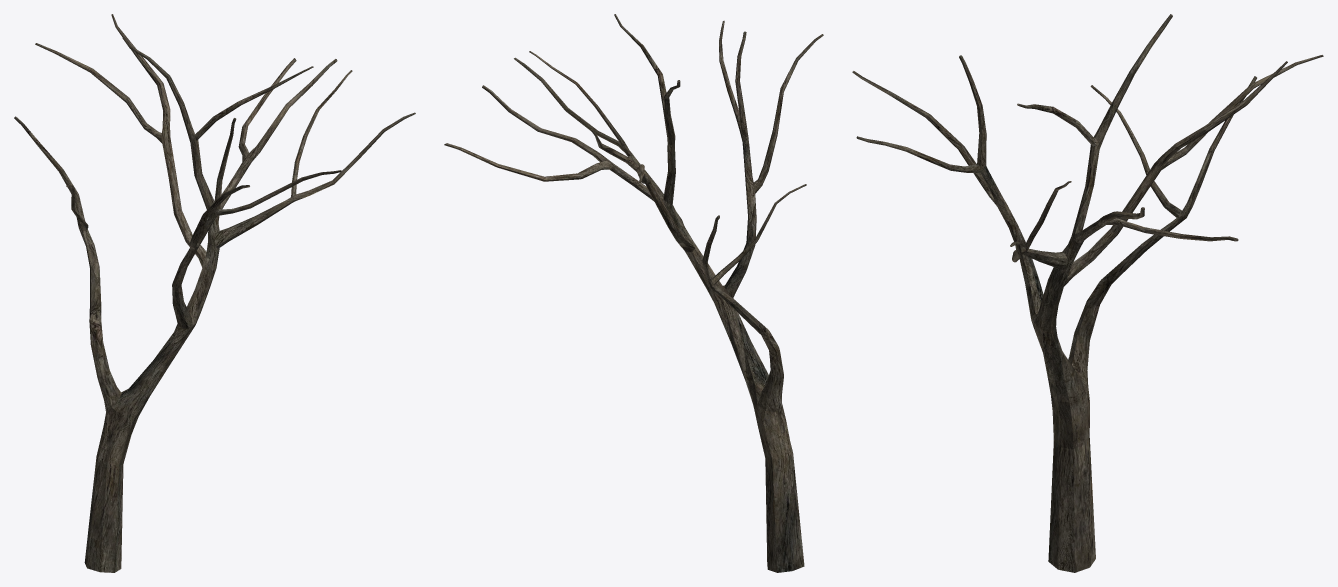
Rendered from 1_TREE_TRUNK_01_3-transformed.glb.
3 renders of one model, left to right at view 1: azimuth 30°, elevation 25°; view 2: azimuth 150°, elevation 25°; view 3: azimuth 270°, elevation 25°, orthographic. The views are drawn at different scales.
Visible parts, largest first — view 1: default; view 2: default; view 3: default.
Boxes of the visible parts, x1,y1,x2,y2 form: default: [14, 14, 415, 572]; default: [444, 14, 823, 572]; default: [852, 14, 1323, 572].
Size of the model in its own units: 5.35 by 7.86 by 5.73.
1 material, 1 textured.
